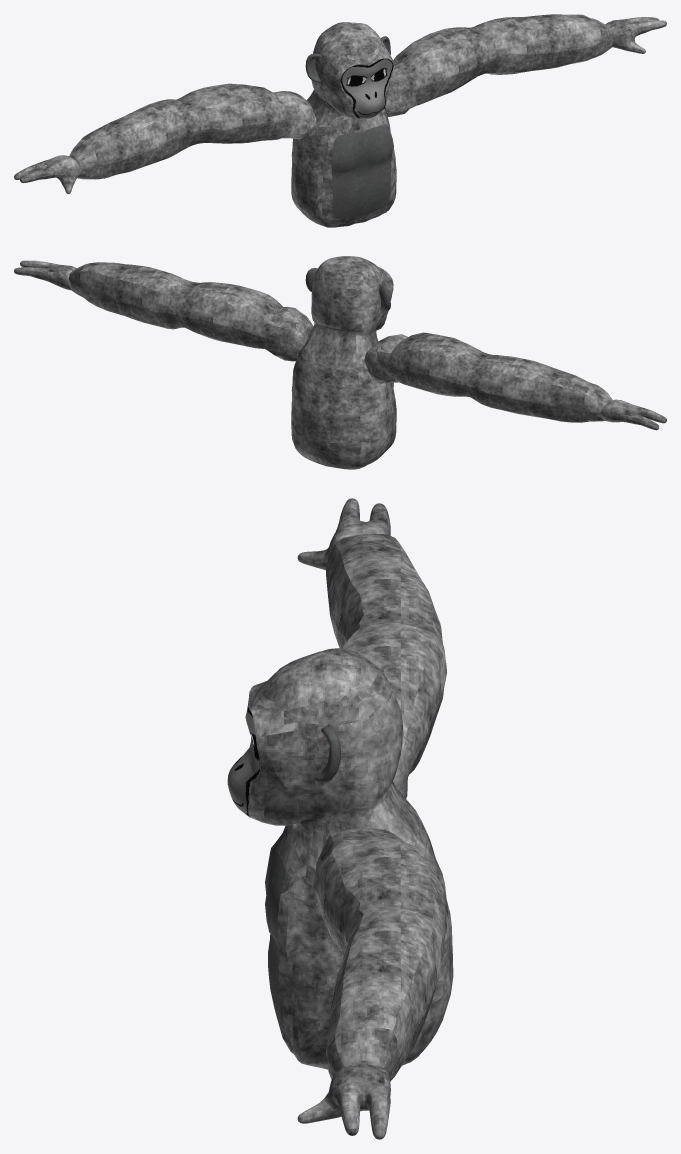
File: LethalApePlayerModel.fbx
The picture shows the model from 3 angles, top to bottom: view 1: azimuth 30°, elevation 25°; view 2: azimuth 150°, elevation 25°; view 3: azimuth 270°, elevation 25°; orthographic projection. The views are drawn at different scales.
Visible parts, largest first — view 1: body_003, body_004, hands; view 2: body_003, body_004, hands; view 3: body_004, body_003, hands.
Part boxes in pixels (<box>): body_003: <box>69,14,612,179</box>; body_004: <box>291,22,396,227</box>; hands: <box>14,17,666,193</box>; body_003: <box>68,262,612,422</box>; body_004: <box>291,256,396,469</box>; hands: <box>14,260,666,430</box>; body_004: <box>227,648,453,1069</box>; body_003: <box>313,533,446,1081</box>; hands: <box>297,498,390,1139</box>.
Bounding box in the file's own units: 253 × 73.91 × 38.23.
Materials: 3 (3 with a texture image).
